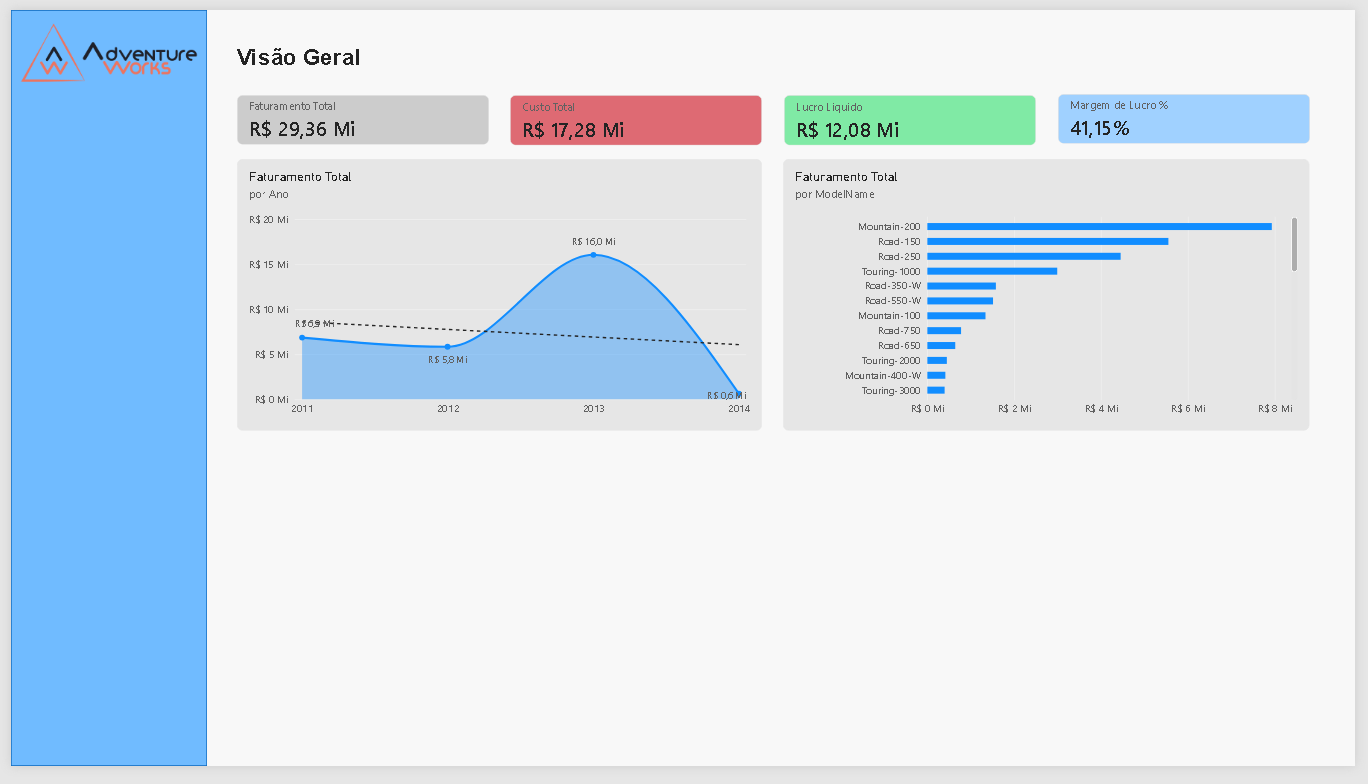

The page's visual inventory and layout, read from the dashboard file:
{"tool":"powerbi","page":{"name":"Visão Geral","canvas":[1920,1080],"ordinal":0},"visuals":[{"type":"shape","box":[0,0,280,1080],"z":0},{"type":"image","box":[0,0,280,122],"z":1000},{"type":"textbox","box":[323.3,48.3,360,40],"z":2000},{"type":"cardVisual","fields":{"Data":["FactInternetSales.Faturamento Total"]},"box":[323.3,121.7,360,71.7],"z":3000},{"type":"cardVisual","fields":{"Data":["FactInternetSales.Custo Total"]},"box":[712.5,121.2,360,72],"z":4000},{"type":"cardVisual","fields":{"Data":["FactInternetSales.Lucro Liquido"]},"box":[1103.8,121.2,360,72],"z":5000},{"type":"cardVisual","fields":{"Data":["FactInternetSales.Margem de Lucro %"]},"box":[1495,120,360,71.7],"z":6000},{"type":"lineChart","title":"Evolução do Faturamento","fields":{"Category":["DimDate.FullDateAlternateKey.Variation.Hierarquia de datas.Ano","DimDate.FullDateAlternateKey.Variation.Hierarquia de datas.Trimestre","DimDate.FullDateAlternateKey.Variation.Hierarquia de datas.Mês","DimDate.FullDateAlternateKey.Variation.Hierarquia de datas.Dia"],"Y":["FactInternetSales.Faturamento Total"]},"box":[322.9,212.9,1532.9,384.3],"z":7000},{"type":"barChart","title":"Faturamento e Custo por Modelo","fields":{"Category":["DimProduct.ModelName"],"Y":["FactInternetSales.Faturamento Total","FactInternetSales.Custo Total"]},"box":[323.3,615,1531.7,425],"z":8000},{"type":"actionButton","box":[41.7,250.8,196.7,40],"z":9000},{"type":"actionButton","box":[41.7,308.3,196.7,40],"z":10000},{"type":"shape","box":[25,251.5,12,40],"z":11000},{"type":"actionButton","box":[41.7,361.2,196.7,40],"z":11001}]}

Visuals, with their boxes in screenshot pixels (x1, y1, x2, y2), scaled from the page's 1920x1080 canvas onto the 1368x784 screenshot:
shape: l=0, t=0, r=200, b=783
image: l=0, t=0, r=200, b=89
textbox: l=230, t=35, r=487, b=64
cardVisual - FactInternetSales.Faturamento Total: l=230, t=88, r=487, b=140
cardVisual - FactInternetSales.Custo Total: l=508, t=88, r=764, b=140
cardVisual - FactInternetSales.Lucro Liquido: l=786, t=88, r=1043, b=140
cardVisual - FactInternetSales.Margem de Lucro %: l=1065, t=87, r=1322, b=139
"Evolução do Faturamento" lineChart: l=230, t=155, r=1322, b=434
"Faturamento e Custo por Modelo" barChart: l=230, t=446, r=1322, b=755
actionButton: l=30, t=182, r=170, b=211
actionButton: l=30, t=224, r=170, b=253
shape: l=18, t=183, r=26, b=212
actionButton: l=30, t=262, r=170, b=291
